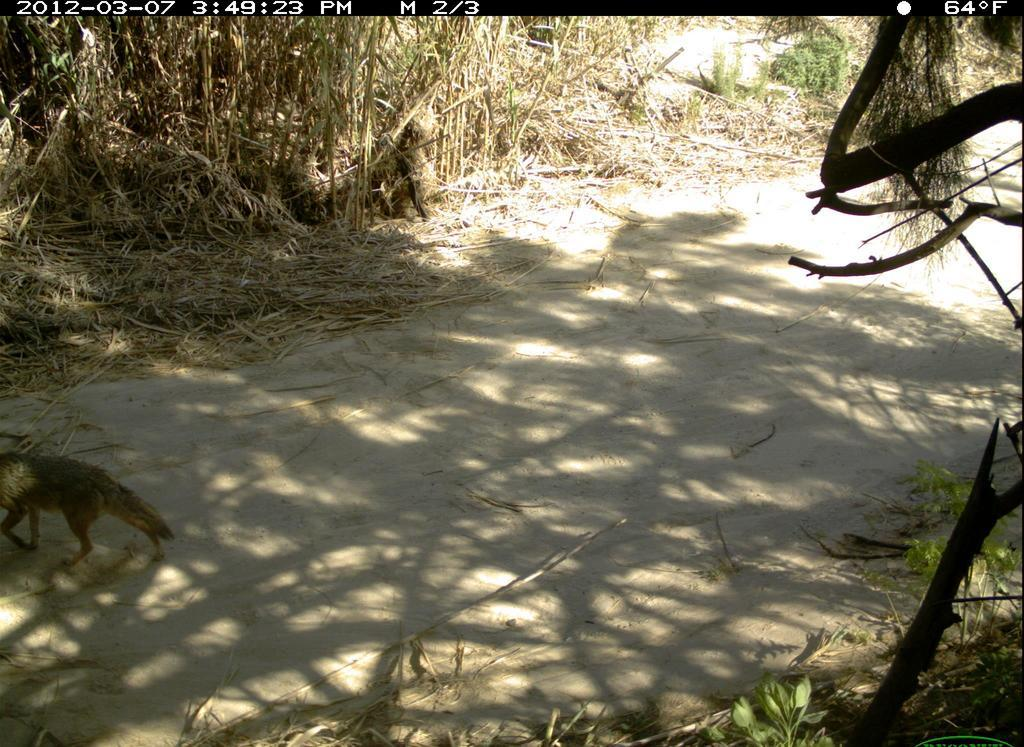coyote: (1, 441, 181, 578)
